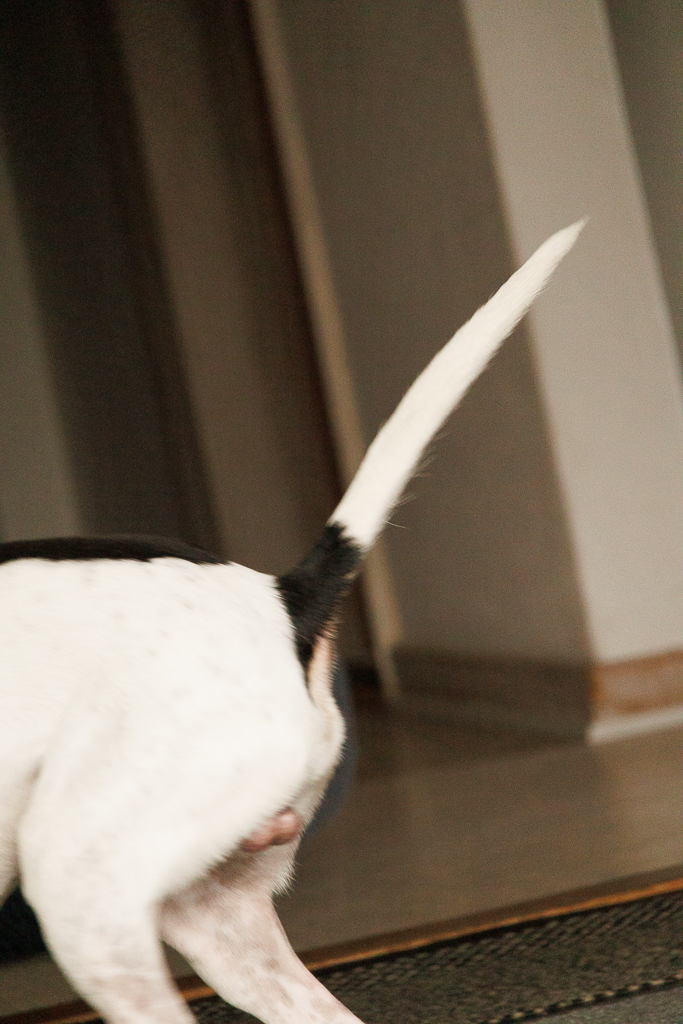Dog: (0, 212, 594, 1024)
